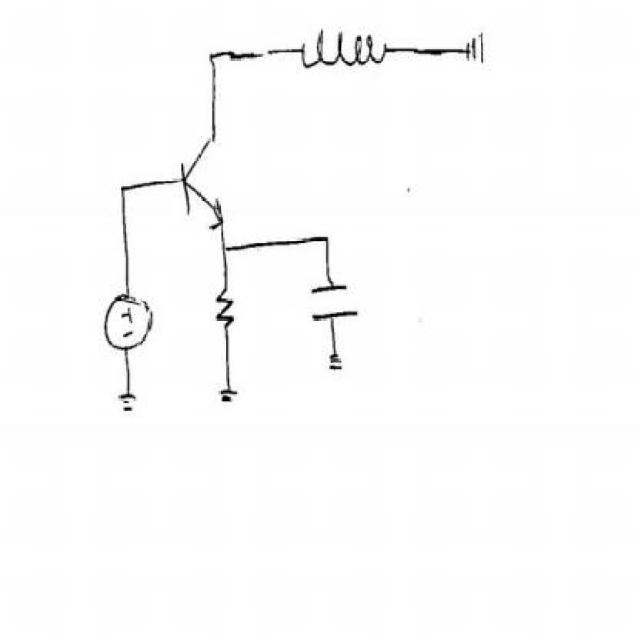capacitor: (298, 269, 367, 325)
ground: (207, 379, 273, 420), (449, 21, 494, 74), (115, 385, 147, 425), (322, 344, 355, 376)
inductor: (291, 16, 400, 82)
resistor: (207, 271, 251, 338)
transistor: (170, 124, 235, 235)
voltage_source: (102, 280, 160, 361)
